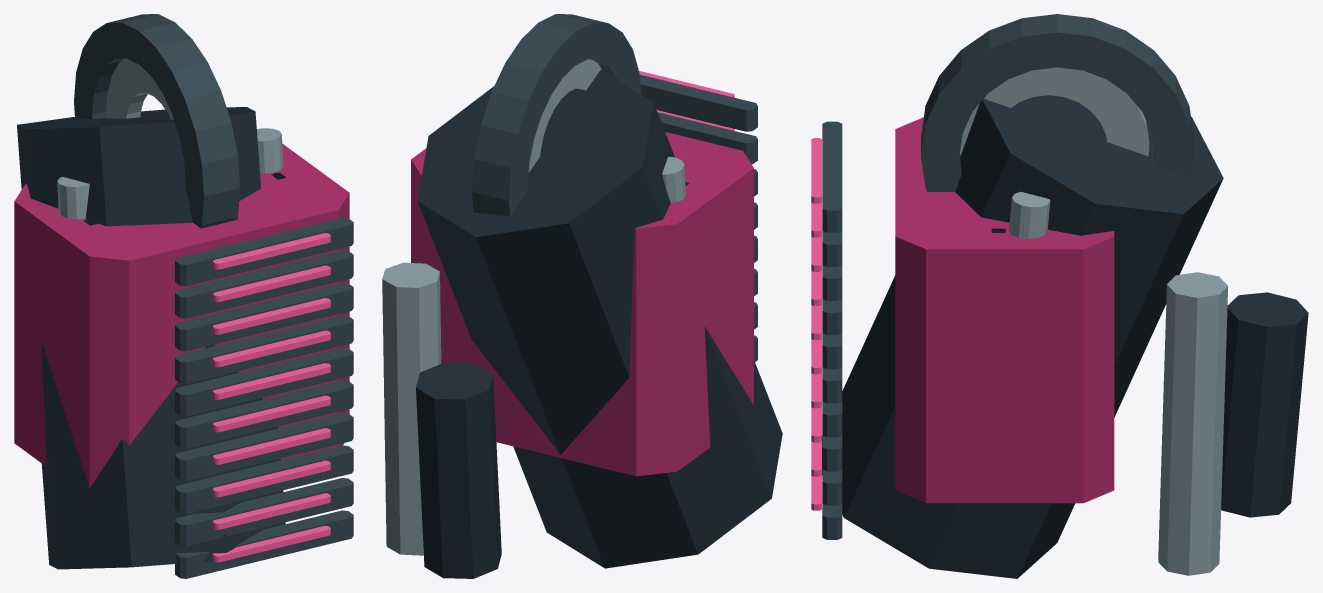
The model's file is enemy_striker_4k_thigh_l.obj.
The picture shows the model from 3 angles, left to right: view 1: azimuth 30°, elevation 25°; view 2: azimuth 150°, elevation 25°; view 3: azimuth 270°, elevation 25°; orthographic projection. The views are drawn at different scales.
Bounding box in the file's own units: 0.3939 × 0.6852 × 0.5678.
